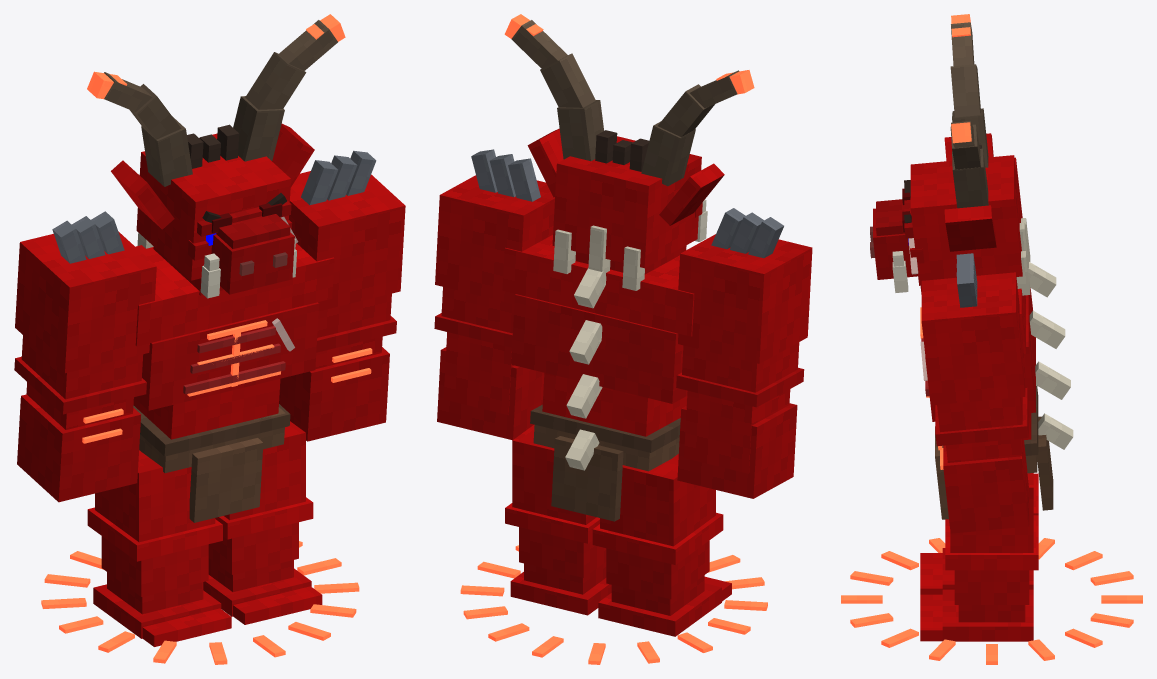
File: orc_s0_evo3.glb
The picture shows the model from 3 angles, left to right: view 1: azimuth 30°, elevation 25°; view 2: azimuth 150°, elevation 25°; view 3: azimuth 270°, elevation 25°; orthographic projection. The views are drawn at different scales.
Parts seen in each view (by area): view 1: Torso, ArmR, Head, ArmL, LegR, LegL, Root; view 2: Torso, ArmR, Head, ArmL, LegR, LegL, Root; view 3: ArmL, Head, LegL, Torso, Root, LegR.
Boxes of the visible parts, left/top/right/bottom form: Torso: left=133, top=232, right=334, bottom=522; ArmR: left=14, top=211, right=156, bottom=502; Head: left=87, top=14, right=345, bottom=298; ArmL: left=279, top=150, right=405, bottom=441; LegR: left=87, top=450, right=231, bottom=646; LegL: left=203, top=421, right=322, bottom=624; Root: left=41, top=541, right=359, bottom=664; Torso: left=502, top=225, right=694, bottom=521; ArmR: left=676, top=208, right=812, bottom=498; Head: left=504, top=14, right=754, bottom=274; ArmL: left=434, top=149, right=554, bottom=440; LegR: left=592, top=454, right=731, bottom=636; LegL: left=505, top=424, right=611, bottom=615; Root: left=460, top=545, right=767, bottom=664; ArmL: left=921, top=253, right=1029, bottom=533; Head: left=870, top=14, right=1022, bottom=294; LegL: left=920, top=473, right=1038, bottom=641; Torso: left=920, top=218, right=1073, bottom=519; Root: left=841, top=538, right=1142, bottom=664; LegR: left=920, top=473, right=1038, bottom=594.
Size of the model in its own units: 1.34 by 2.15 by 1.1.
30 materials, 30 textured.
